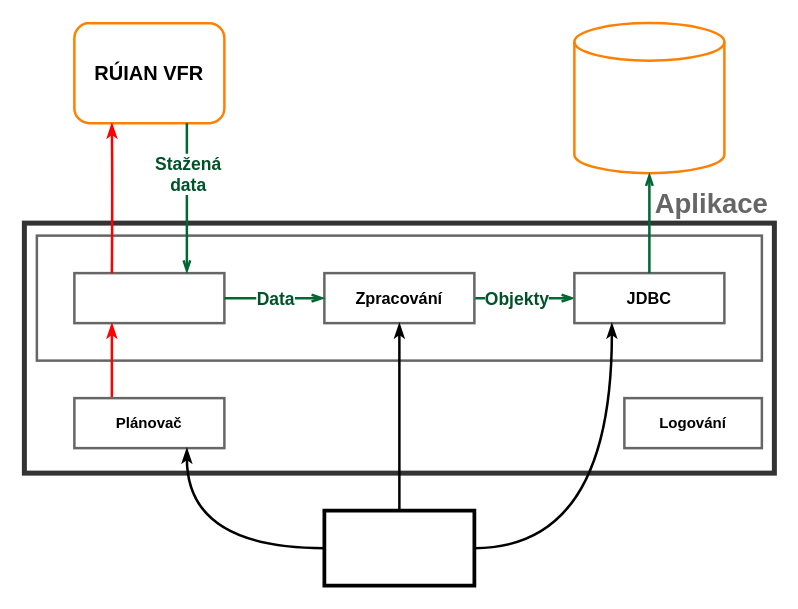
The diagram is 798 pixels wide and 609 high, and some of its shapes have lost their labels. Each missing label, with the centre of its shape:
"Databáze" belongs at point (648, 97).
"Konfigurace" belongs at point (399, 547).
"Stahování" belongs at point (148, 297).
